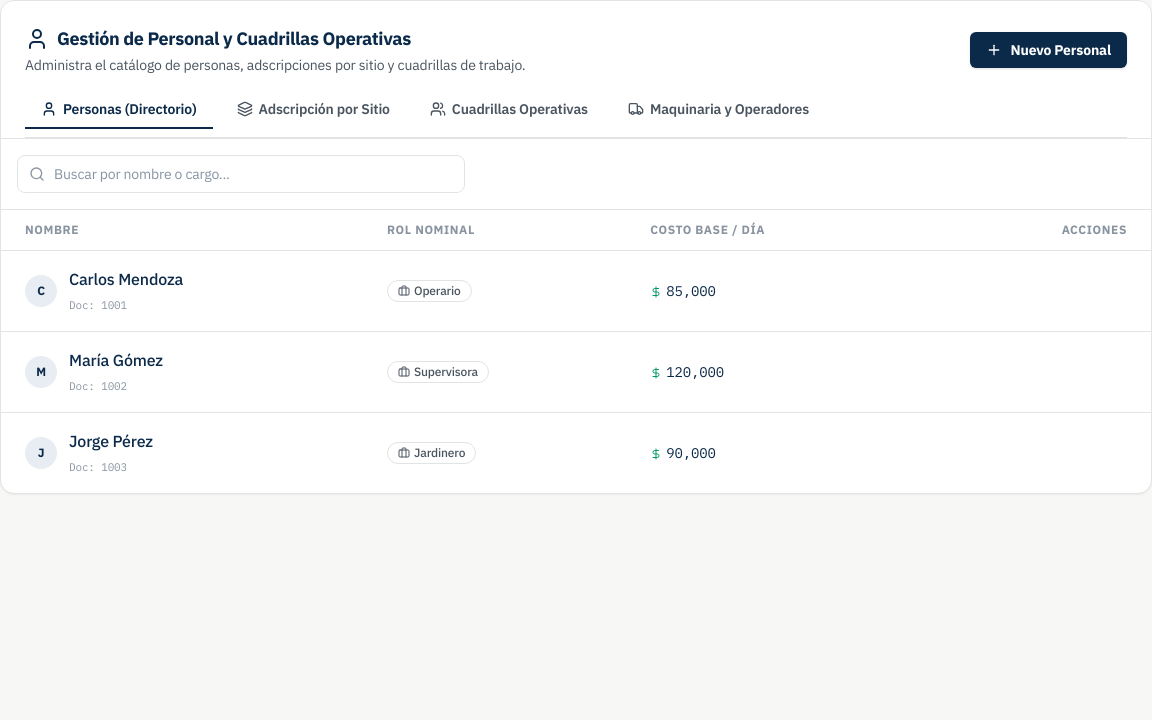
Test: CUADRILLAS-PERSONAL-FASE-2.4 — Crew Membership & Staffing UX (TC-CRW-01..12) › TC-CRW-10: Versión publicada con 0 asignaciones -> muestra mensaje explícito distinto al caso nulo
The image size is (1152, 720).
Click the button "Adscripción por Sitio" at coordinates (313, 110), box [220, 91, 406, 129]
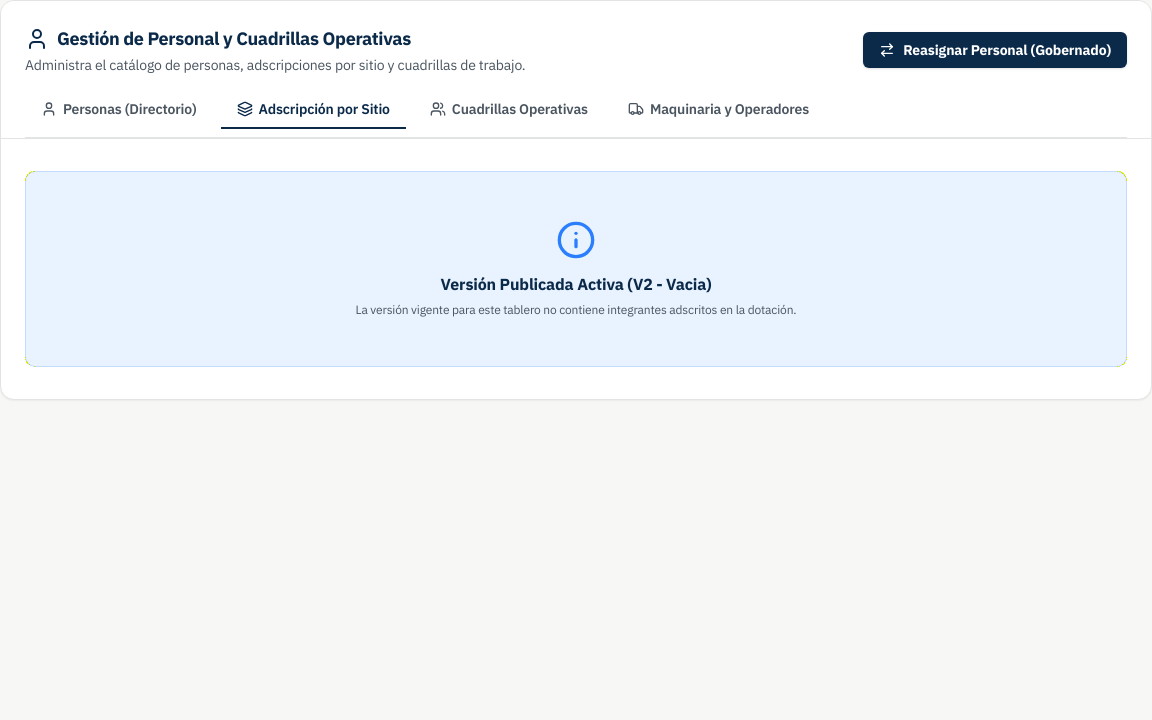
Result: the heading "Versión Publicada Activa (V2 - Vacia)" is shown at [441, 274, 711, 294]
Result: the text "La versión vigente para este tablero no contiene integrantes adscritos" is shown at [356, 302, 796, 317]
